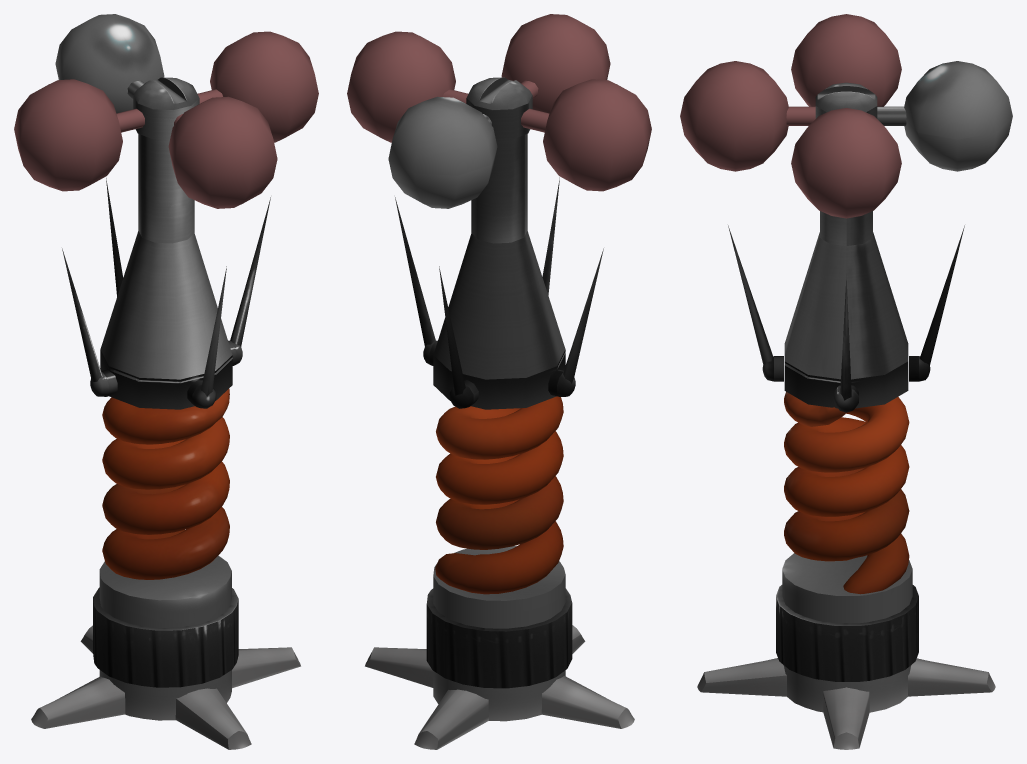
Rendered from Magnet.fbx.
3 views of the same model, side by side, from view 1: azimuth 30°, elevation 25°; view 2: azimuth 150°, elevation 25°; view 3: azimuth 270°, elevation 25° (orthographic).
Parts seen in each view (by area): view 1: magunetto:bane1, pCylinder39, pCylinder34, pCone17; view 2: magunetto:bane1, pCylinder39, pCylinder34, pCone17; view 3: magunetto:bane1, pCylinder39, pCylinder34, pCone17.
Part boxes in pixels (<box>): magunetto:bane1: <box>31,388,300,749</box>; pCylinder39: <box>14,14,318,208</box>; pCylinder34: <box>100,77,232,409</box>; pCone17: <box>62,178,270,408</box>; magunetto:bane1: <box>365,396,634,749</box>; pCylinder39: <box>347,14,651,208</box>; pCylinder34: <box>433,77,565,409</box>; pCone17: <box>395,177,603,408</box>; magunetto:bane1: <box>697,392,995,749</box>; pCylinder39: <box>680,14,1012,218</box>; pCylinder34: <box>784,82,908,408</box>; pCone17: <box>728,225,964,412</box>.
Bounding box in the file's own units: 102 × 210 × 102.
